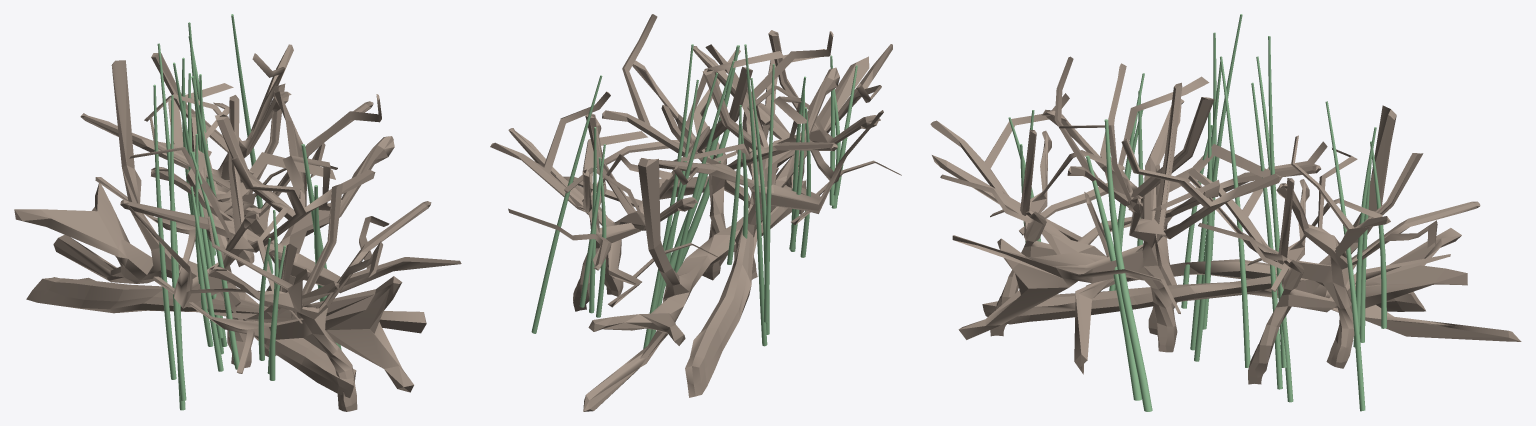
The model's file is Brush_Whole.fbx.
3 views of the same model, side by side, from view 1: azimuth 30°, elevation 25°; view 2: azimuth 150°, elevation 25°; view 3: azimuth 270°, elevation 25° (orthographic). The views are drawn at different scales.
Visible parts, largest first — view 1: fallenTree4, fallenTree3, deadTree2, deadTree5, deadTree6, deadTree4, deadTree7, pCylinder17, pCylinder15, pCylinder14, pCylinder13, pCylinder16 (+11 smaller); view 2: deadTree6, fallenTree3, deadTree2, fallenTree4, deadTree7, deadTree4, deadTree5, pCylinder16, pCylinder15, pCylinder25, pCylinder10, pCylinder26 (+15 smaller); view 3: fallenTree3, deadTree2, fallenTree4, deadTree4, deadTree6, deadTree7, deadTree5, pCylinder21, pCylinder10, pCylinder22, pCylinder25, pCylinder26 (+10 smaller).
Boxes of the visible parts, left/top/right/bottom form: fallenTree4: left=26, top=243, right=426, bottom=392; fallenTree3: left=14, top=60, right=356, bottom=397; deadTree2: left=120, top=91, right=461, bottom=356; deadTree5: left=153, top=183, right=431, bottom=411; deadTree6: left=127, top=95, right=375, bottom=367; deadTree4: left=80, top=44, right=337, bottom=266; deadTree7: left=95, top=83, right=373, bottom=293; pCylinder17: left=170, top=95, right=186, bottom=400; pCylinder15: left=153, top=84, right=176, bottom=379; pCylinder14: left=190, top=186, right=223, bottom=371; pCylinder13: left=190, top=151, right=239, bottom=369; pCylinder16: left=157, top=43, right=185, bottom=410; deadTree6: left=639, top=31, right=883, bottom=279; fallenTree3: left=583, top=158, right=806, bottom=411; deadTree2: left=596, top=14, right=837, bottom=280; fallenTree4: left=660, top=56, right=869, bottom=397; deadTree7: left=508, top=113, right=718, bottom=307; deadTree4: left=490, top=91, right=736, bottom=311; deadTree5: left=693, top=30, right=901, bottom=225; pCylinder16: left=744, top=44, right=767, bottom=346; pCylinder15: left=763, top=64, right=774, bottom=322; pCylinder25: left=531, top=75, right=602, bottom=333; pCylinder10: left=643, top=44, right=693, bottom=348; pCylinder26: left=674, top=60, right=734, bottom=272; fallenTree3: left=982, top=105, right=1521, bottom=341; deadTree2: left=952, top=82, right=1281, bottom=352; fallenTree4: left=932, top=155, right=1425, bottom=374; deadTree4: left=1188, top=135, right=1480, bottom=368; deadTree6: left=1019, top=56, right=1321, bottom=335; deadTree7: left=1188, top=141, right=1450, bottom=384; deadTree5: left=930, top=93, right=1192, bottom=336; pCylinder21: left=1104, top=119, right=1152, bottom=411; pCylinder10: left=1268, top=36, right=1293, bottom=402; pCylinder22: left=1086, top=155, right=1141, bottom=400; pCylinder25: left=1325, top=101, right=1365, bottom=411; pCylinder26: left=1220, top=56, right=1250, bottom=367.
Bounding box in the file's own units: 3.73 × 3.77 × 5.84.
